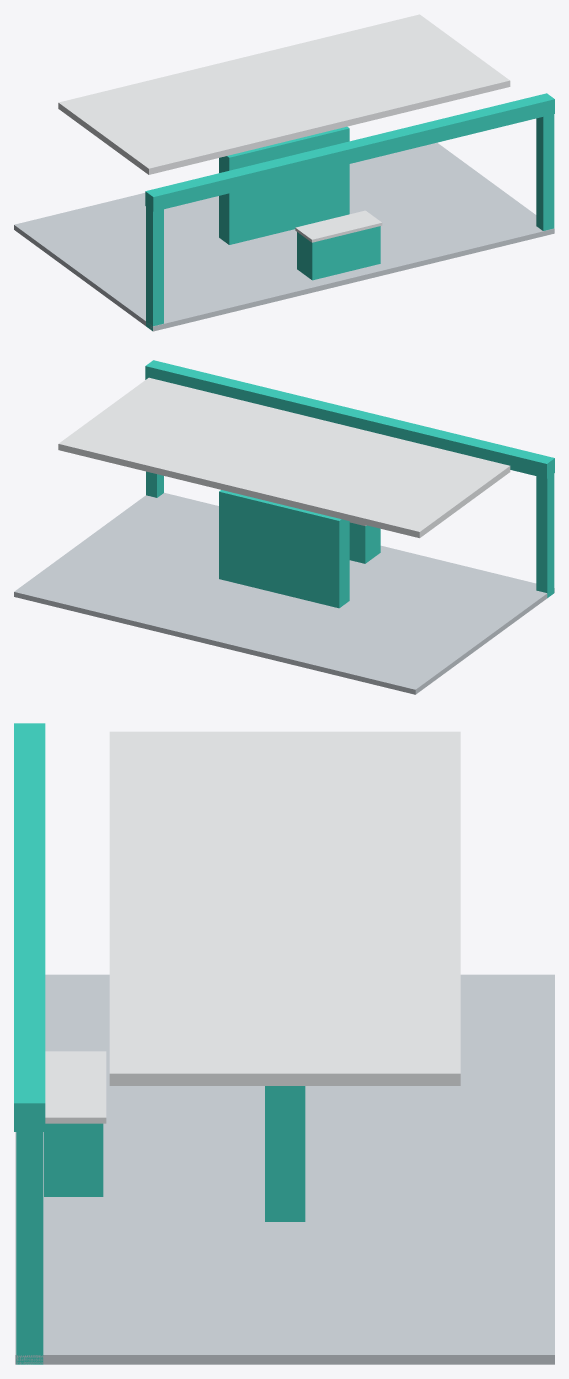
3 views of the same model, one above another, from view 1: azimuth 30°, elevation 25°; view 2: azimuth 150°, elevation 25°; view 3: azimuth 270°, elevation 25° (orthographic). The views are drawn at different scales.
Parts seen in each view (by area): view 1: Exhibition Booth Concept; view 2: Exhibition Booth Concept; view 3: Exhibition Booth Concept.
Part boxes in pixels (x1,y1,x2,y2): Exhibition Booth Concept: (14,14,554,331); Exhibition Booth Concept: (14,360,554,694); Exhibition Booth Concept: (14,723,554,1364).
Bounding box in the file's own units: 10 × 3.34 × 6.02.
